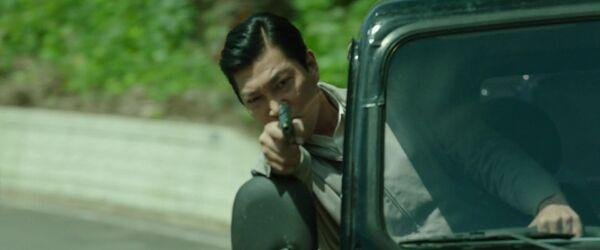Gun: (279, 103, 294, 138)
